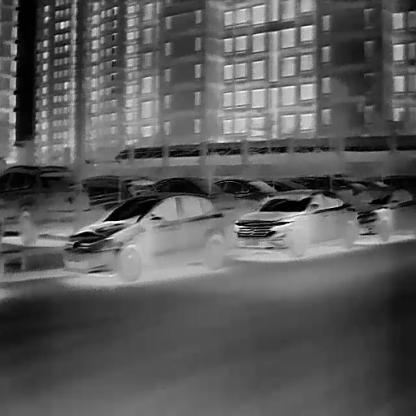car: (63, 191, 228, 280), (234, 189, 359, 256), (0, 164, 86, 244), (72, 173, 157, 217), (357, 189, 416, 240), (215, 176, 282, 210), (156, 177, 227, 208), (296, 175, 363, 196), (263, 177, 304, 198), (382, 173, 414, 190), (361, 181, 389, 195)
